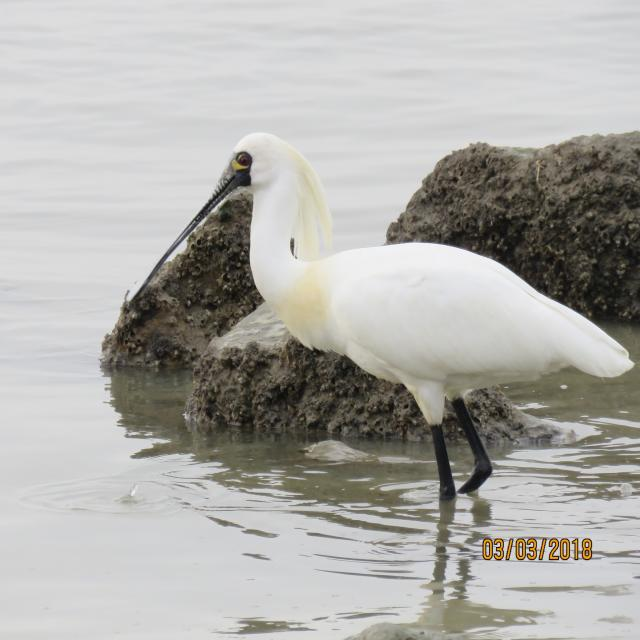Black-faced spoonbill: (129, 134, 633, 499)
